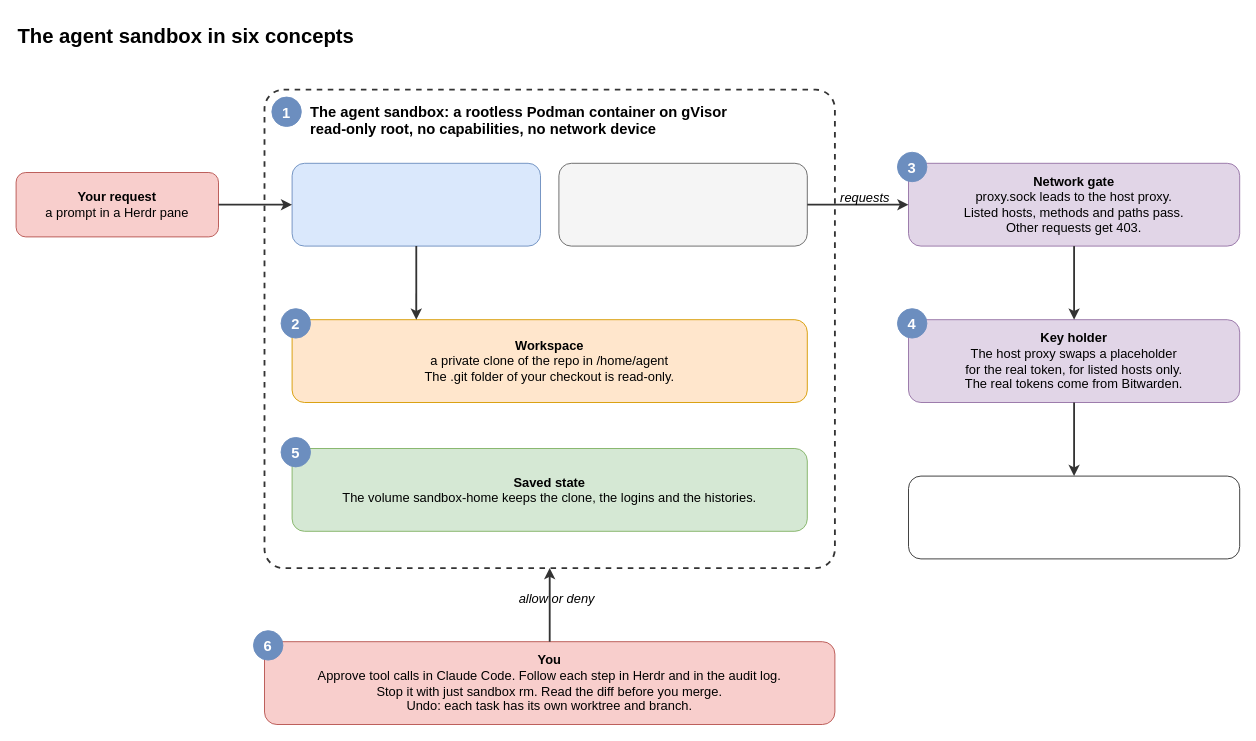
The diagram is 1256 pixels wide and 741 high, and some of its shapes have lost their labels. The centre of each missing label's shape, as x and y in pixels:
"Agent Claude Code or Qwen Code" belongs at point 415,204.
"Listed hosts GitHub, the model APIs, registries and the listed docs sites" belongs at point 1074,517.
"Software the tools of the image docker build goes to the builder" belongs at point 682,204.
